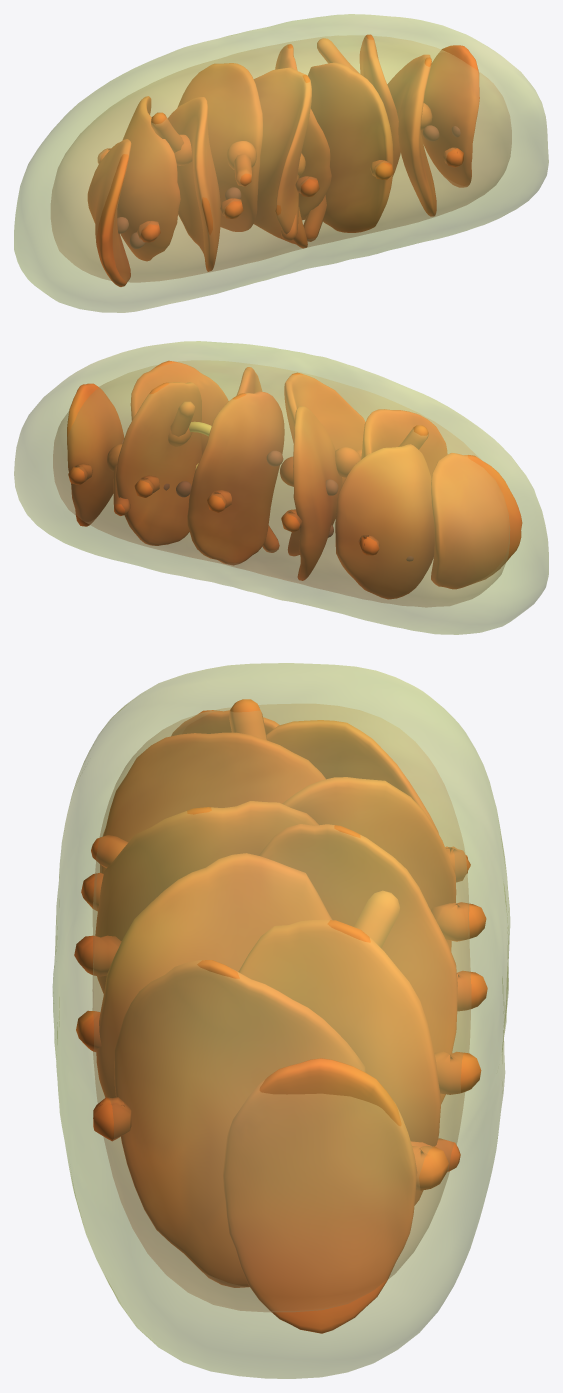
File: mitochondrion.glb
The picture shows the model from 3 angles, top to bottom: view 1: azimuth 30°, elevation 25°; view 2: azimuth 150°, elevation 25°; view 3: azimuth 270°, elevation 25°; orthographic projection. The views are drawn at different scales.
Visible parts, largest first — view 1: mitochondrion-outer, mitochondrion-inner, mitochondrion-cristae, mitochondrion-matrix; view 2: mitochondrion-outer, mitochondrion-inner, mitochondrion-cristae, mitochondrion-matrix; view 3: mitochondrion-outer, mitochondrion-inner, mitochondrion-cristae.
Part boxes in pixels (x1=…): mitochondrion-outer: x1=14, y1=14, x2=548, y2=312; mitochondrion-inner: x1=51, y1=35, x2=511, y2=282; mitochondrion-cristae: x1=87, y1=34, x2=479, y2=286; mitochondrion-matrix: x1=117, y1=125, x2=460, y2=249; mitochondrion-outer: x1=14, y1=341, x2=548, y2=634; mitochondrion-inner: x1=53, y1=360, x2=509, y2=607; mitochondrion-cristae: x1=67, y1=360, x2=522, y2=599; mitochondrion-matrix: x1=122, y1=421, x2=413, y2=561; mitochondrion-outer: x1=52, y1=663, x2=510, y2=1378; mitochondrion-inner: x1=92, y1=704, x2=470, y2=1311; mitochondrion-cristae: x1=74, y1=699, x2=487, y2=1333.
Size of what is drawn, in the model's own units: 3.21 by 1.27 by 1.26.
